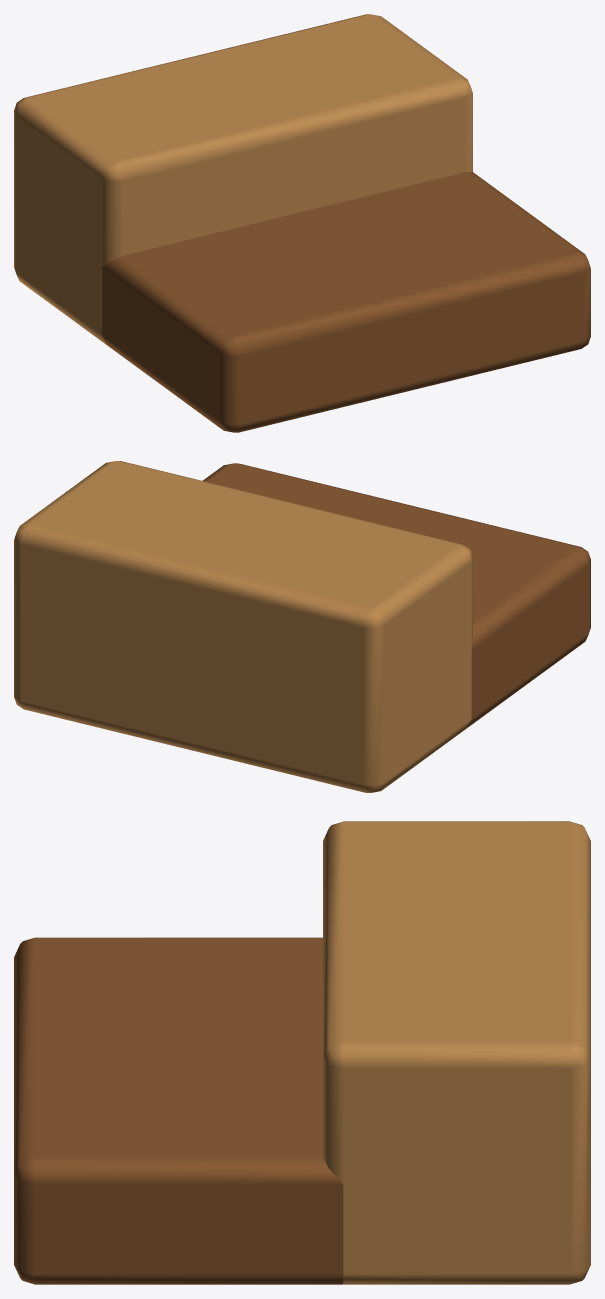
Rendered from PR_Footstool.glb.
3 renders of one model, top to bottom at view 1: azimuth 30°, elevation 25°; view 2: azimuth 150°, elevation 25°; view 3: azimuth 270°, elevation 25°, orthographic. The views are drawn at different scales.
Parts seen in each view (by area): view 1: PR_Footstool_LOD0; view 2: PR_Footstool_LOD0; view 3: PR_Footstool_LOD0.
Boxes of the visible parts, x1,y1,x2,y2 form: PR_Footstool_LOD0: (14,14,590,432); PR_Footstool_LOD0: (14,461,590,792); PR_Footstool_LOD0: (14,821,590,1284).
Size of the model in its own units: 0.48 by 0.23 by 0.495.
1 material, 1 textured.
